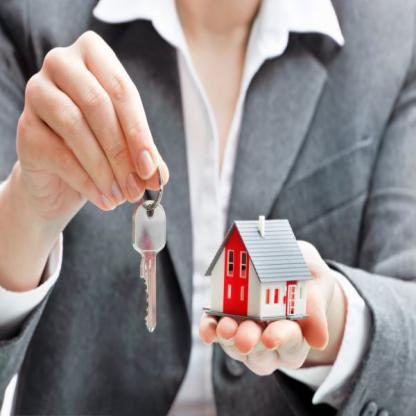keys: (132, 197, 167, 337)
